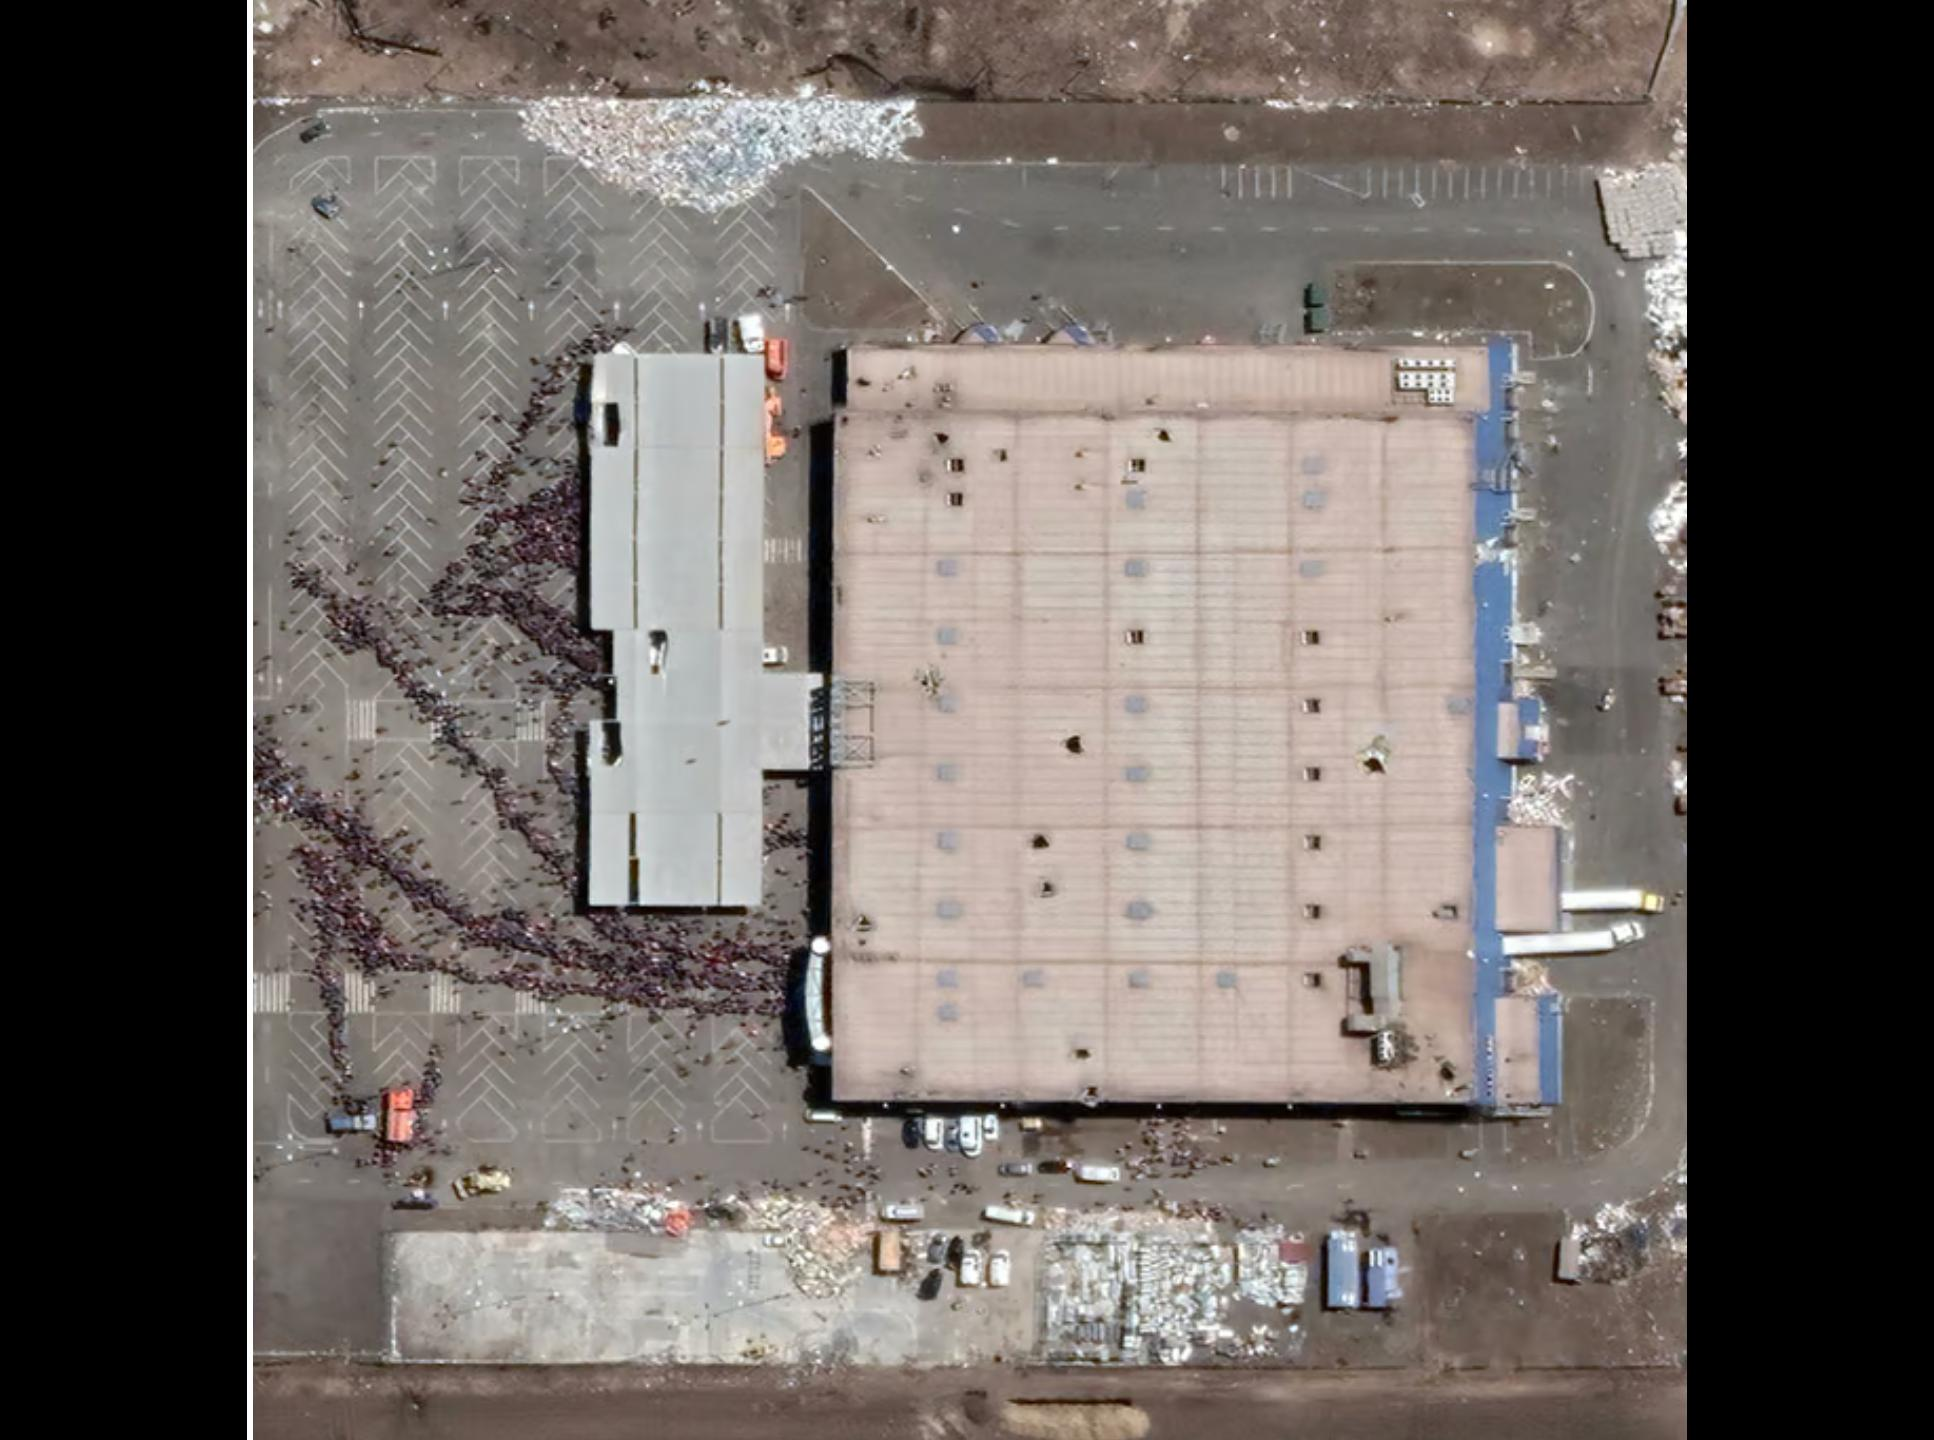demaged-building-low: (838, 336, 1517, 1095)
